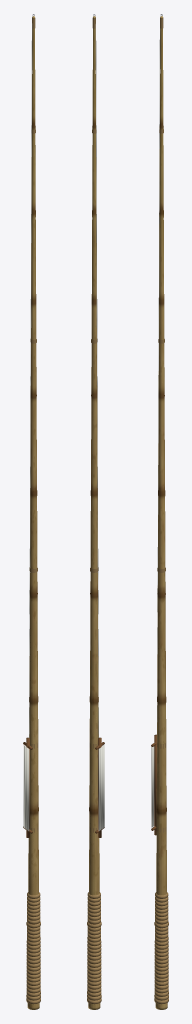
Rendered from cane_rod.gltf.
3 renders of one model, left to right at view 1: azimuth 30°, elevation 25°; view 2: azimuth 150°, elevation 25°; view 3: azimuth 330°, elevation 25°, orthographic.
Parts seen in each view (by area): view 1: cane_rod; view 2: cane_rod; view 3: cane_rod.
Boxes of the visible parts, x1,y1,x2,y2 form: cane_rod: (23, 14, 40, 1009); cane_rod: (87, 14, 104, 1009); cane_rod: (151, 14, 168, 1009).
Bounding box in the file's own units: 0.0381 × 2.61 × 0.036.
5 materials, 1 textured.
